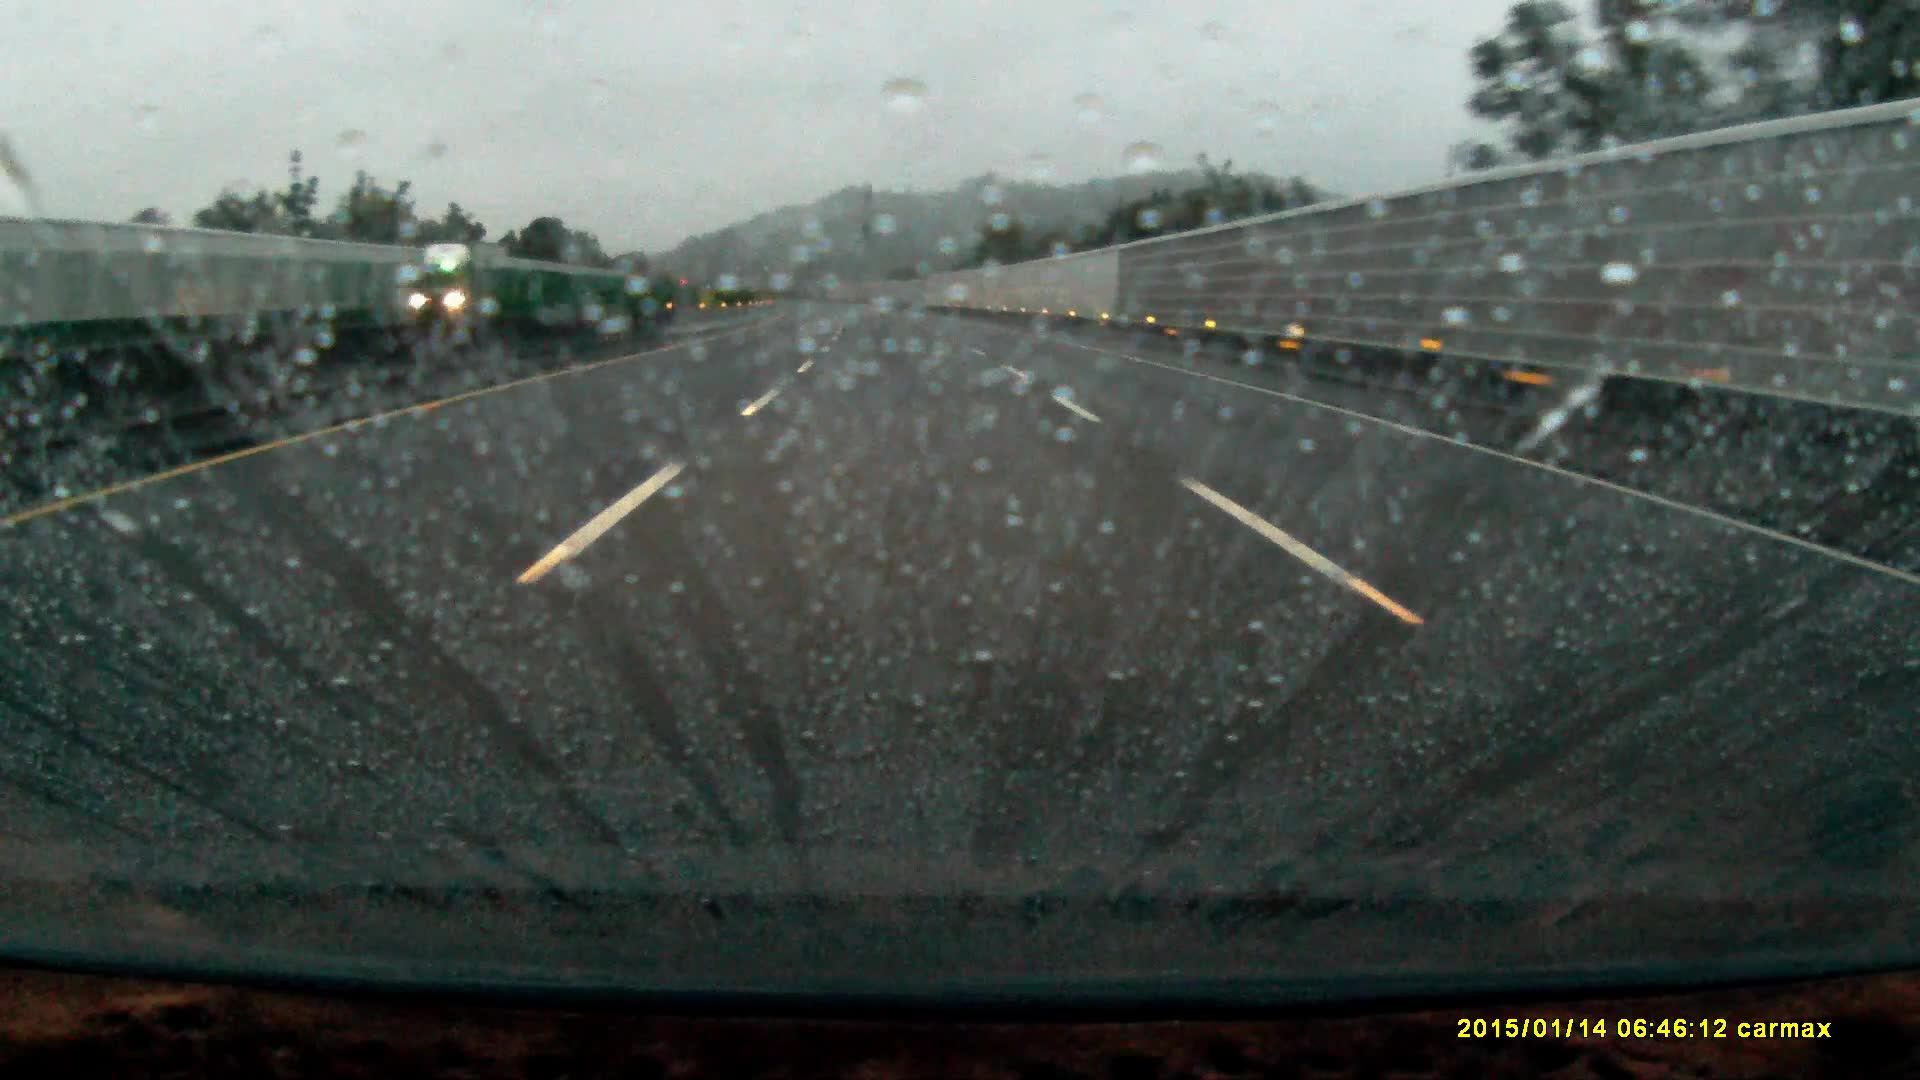vehicle: (418, 241, 509, 322)
